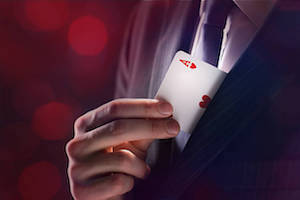AceOfHearts: (152, 49, 231, 139)
